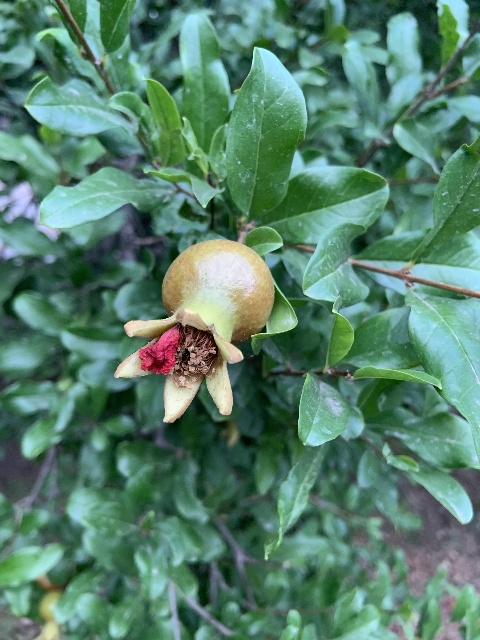early-fruit: (112, 239, 273, 423), (19, 592, 75, 640)
